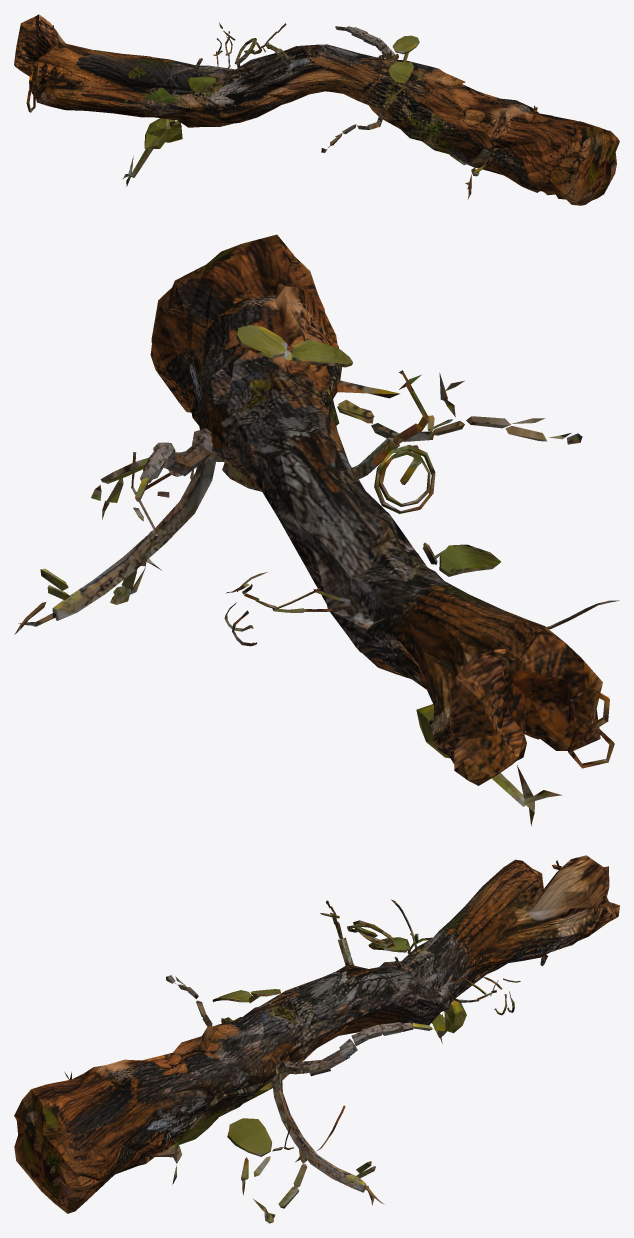
Rendered from tree_branch_1lane.glb.
The picture shows the model from 3 angles, top to bottom: view 1: azimuth 30°, elevation 25°; view 2: azimuth 150°, elevation 25°; view 3: azimuth 270°, elevation 25°; orthographic projection. The views are drawn at different scales.
Parts seen in each view (by area): view 1: tree_branch_A; view 2: tree_branch_A; view 3: tree_branch_A.
Part boxes in pixels (x1,y1,x2,y2): tree_branch_A: (14, 14, 619, 205); tree_branch_A: (14, 234, 619, 825); tree_branch_A: (14, 855, 619, 1223).
Bounding box in the file's own units: 2.16 × 0.8906 × 2.21.
1 material, 1 textured.
